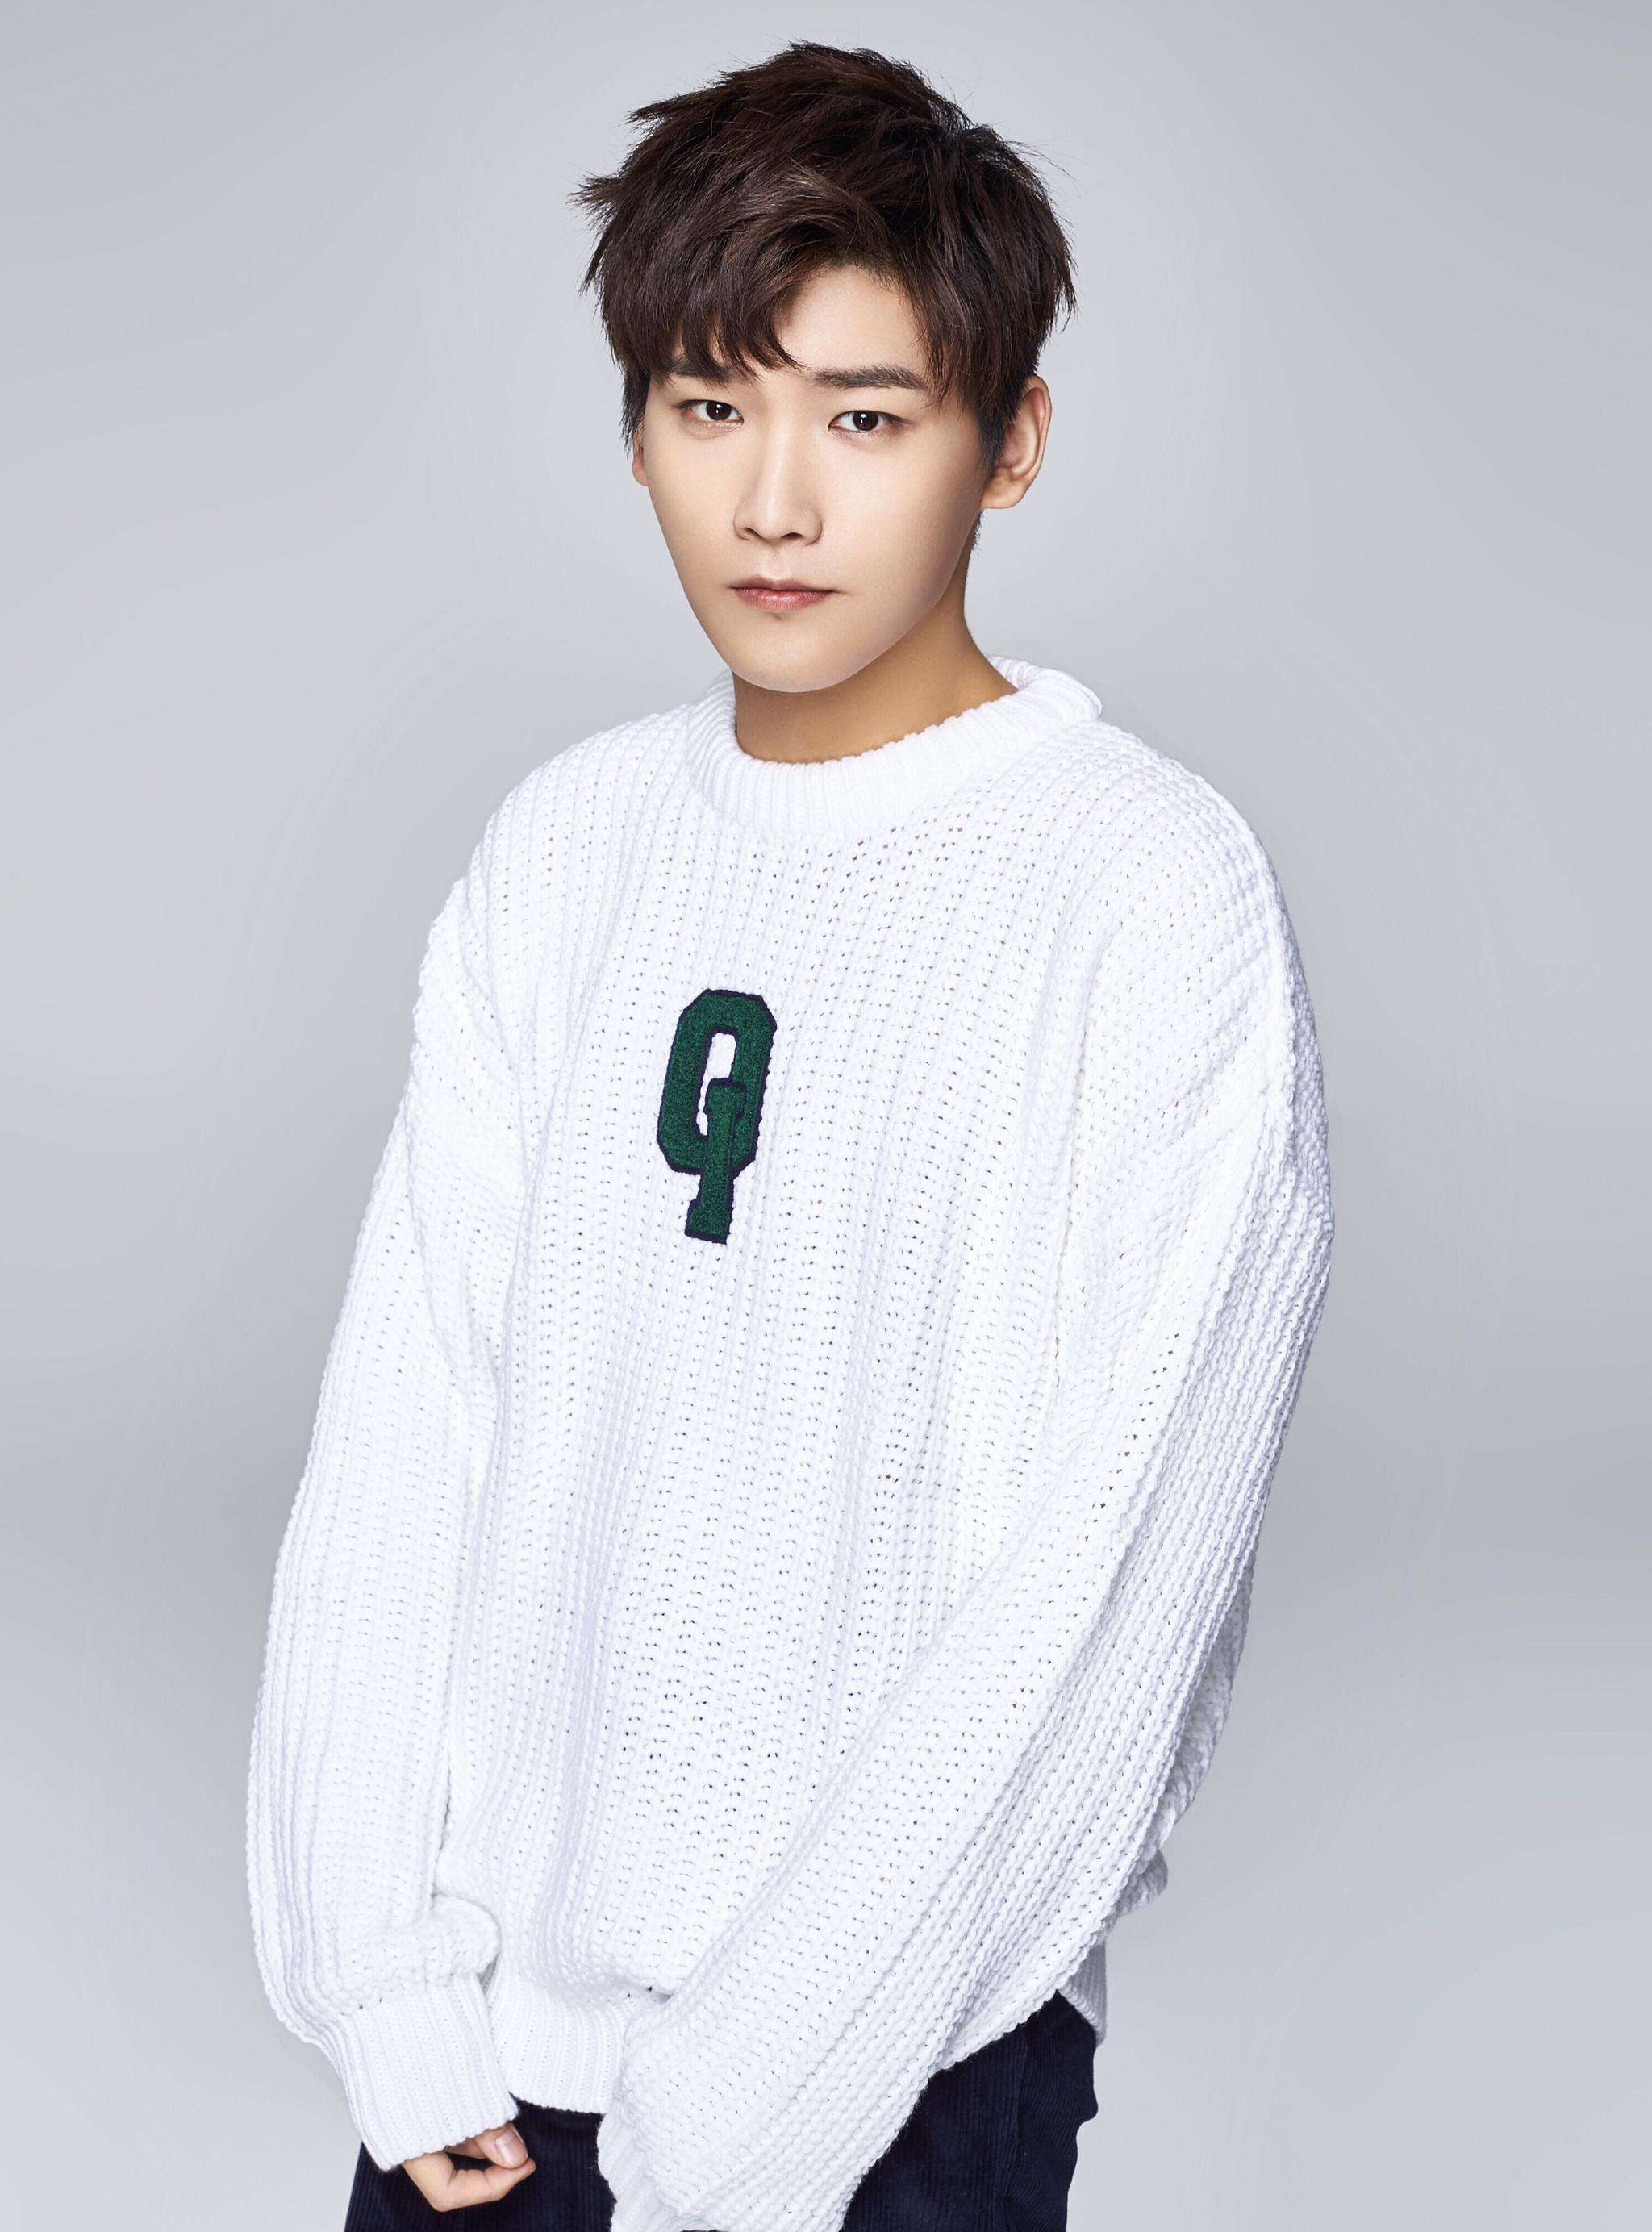person: (407, 91, 1154, 2232)
